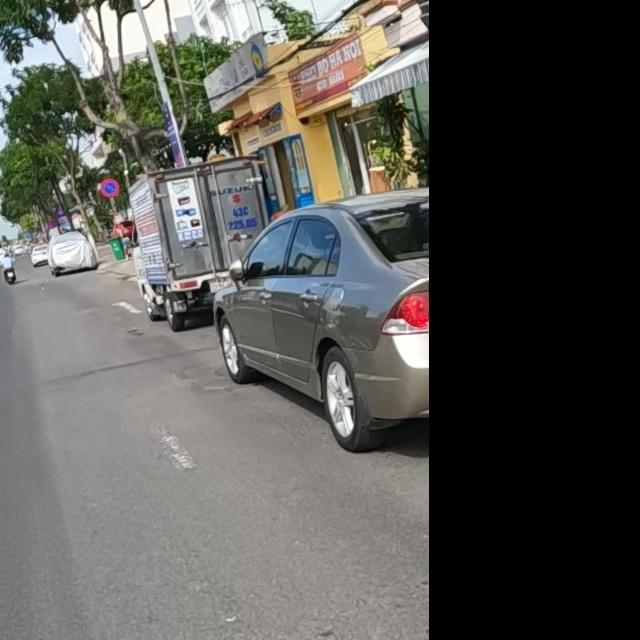license-plate: (209, 278, 234, 292)
